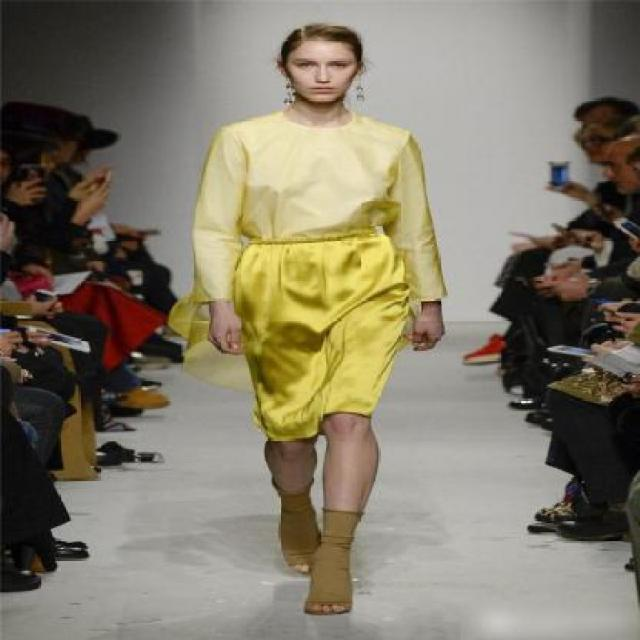Person: (166, 27, 442, 618)
